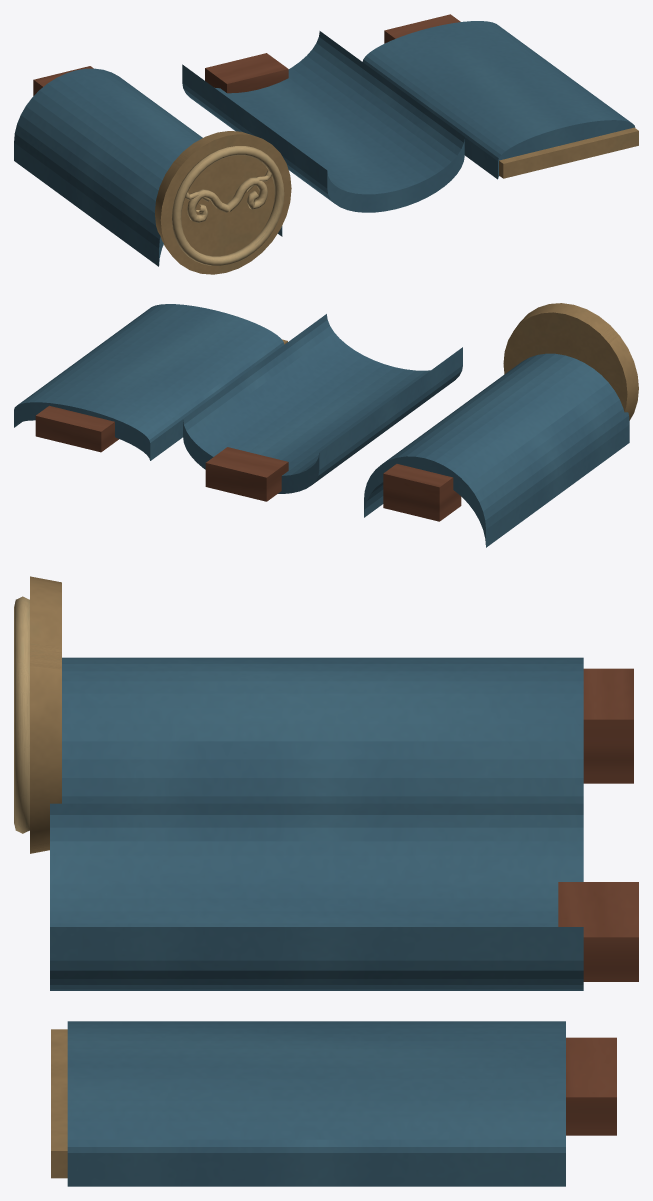
3 views of the same model, one above another, from view 1: azimuth 30°, elevation 25°; view 2: azimuth 150°, elevation 25°; view 3: azimuth 270°, elevation 25° (orthographic). The views are drawn at different scales.
Visible parts, largest first — view 1: ConcaveChannel_glaze, LapTile_glaze, RoundPanTile_glaze, RoundPanTile_bronze, RoundPanTile_gold, LapTile_bronze, ConcaveChannel_heartwood, LapTile_heartwood; view 2: RoundPanTile_glaze, ConcaveChannel_glaze, LapTile_glaze, RoundPanTile_bronze, RoundPanTile_heartwood, ConcaveChannel_heartwood, LapTile_heartwood; view 3: ConcaveChannel_glaze, LapTile_glaze, RoundPanTile_glaze, RoundPanTile_bronze, ConcaveChannel_heartwood, RoundPanTile_heartwood, LapTile_heartwood, RoundPanTile_gold, LapTile_bronze.
Part boxes in pixels (x1=…): ConcaveChannel_glaze: x1=182, y1=31, x2=464, y2=212; LapTile_glaze: x1=362, y1=21, x2=635, y2=179; RoundPanTile_glaze: x1=14, y1=68, x2=282, y2=266; RoundPanTile_bronze: x1=155, y1=131, x2=291, y2=274; RoundPanTile_gold: x1=172, y1=146, x2=284, y2=265; LapTile_bronze: x1=499, y1=127, x2=638, y2=178; ConcaveChannel_heartwood: x1=205, y1=53, x2=288, y2=93; LapTile_heartwood: x1=384, y1=14, x2=460, y2=43; RoundPanTile_glaze: x1=364, y1=353, x2=629, y2=547; ConcaveChannel_glaze: x1=183, y1=314, x2=462, y2=493; LapTile_glaze: x1=14, y1=304, x2=284, y2=460; RoundPanTile_bronze: x1=503, y1=303, x2=638, y2=420; RoundPanTile_heartwood: x1=383, y1=464, x2=461, y2=521; ConcaveChannel_heartwood: x1=205, y1=447, x2=288, y2=501; LapTile_heartwood: x1=35, y1=405, x2=118, y2=452; ConcaveChannel_glaze: x1=50, y1=803, x2=583, y2=990; LapTile_glaze: x1=67, y1=1021, x2=565, y2=1186; RoundPanTile_glaze: x1=62, y1=657, x2=583, y2=803; RoundPanTile_bronze: x1=30, y1=576, x2=61, y2=853; ConcaveChannel_heartwood: x1=558, y1=882, x2=638, y2=981; RoundPanTile_heartwood: x1=583, y1=668, x2=633, y2=783; LapTile_heartwood: x1=566, y1=1037, x2=616, y2=1135; RoundPanTile_gold: x1=14, y1=596, x2=29, y2=833; LapTile_bronze: x1=51, y1=1029, x2=67, y2=1178.
Bounding box in the file's own units: 1.02 × 0.276 × 0.6208.
Materials: 4 (4 with a texture image).
